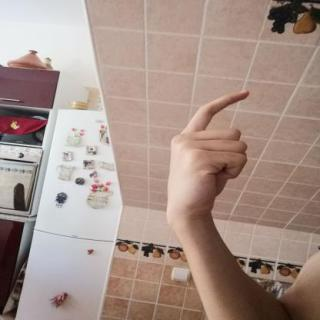RAA: (158, 82, 260, 230)
